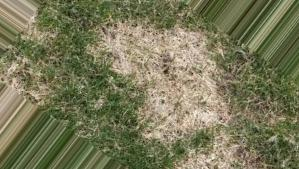patch: (147, 70, 206, 107), (107, 34, 160, 57), (172, 35, 203, 67), (157, 109, 200, 129), (14, 65, 43, 92), (199, 110, 220, 125), (188, 153, 211, 166), (138, 112, 152, 133), (119, 62, 137, 73)
